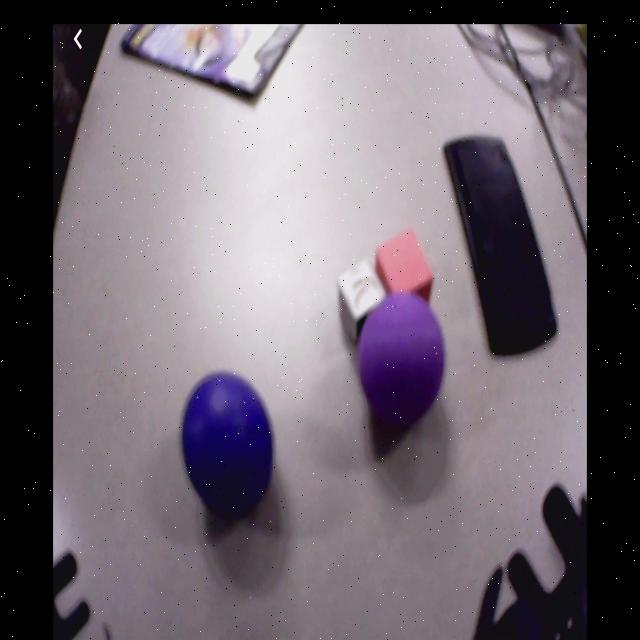ball: (183, 374, 278, 506), (360, 293, 446, 424)
